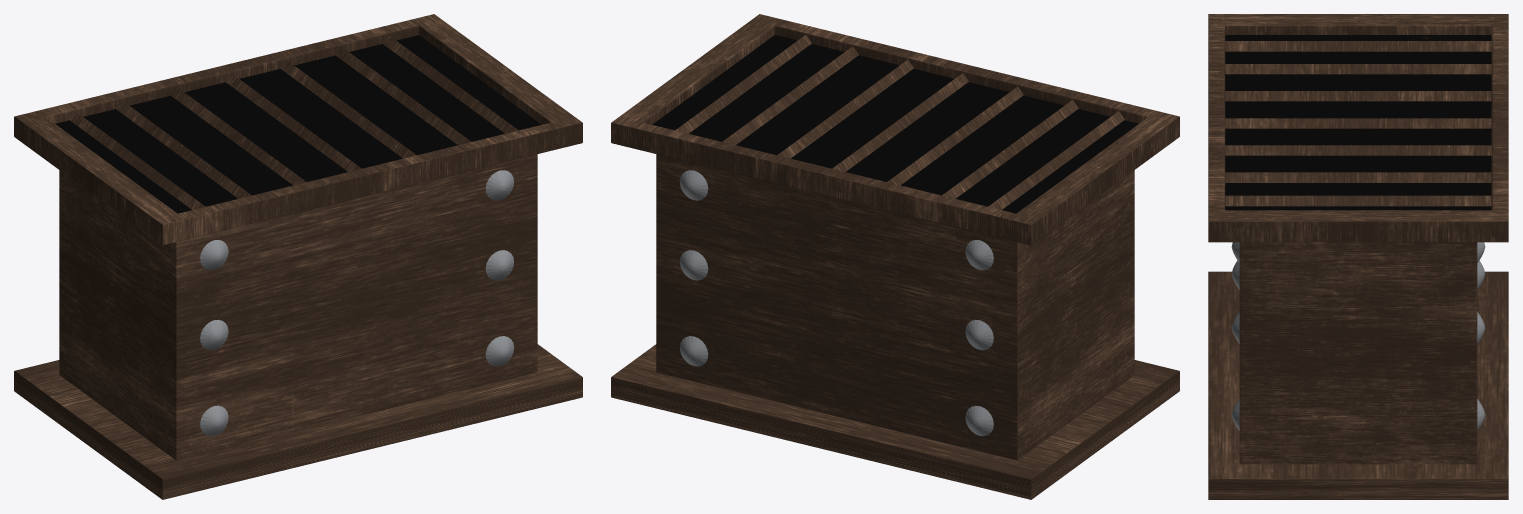
File: SAISENBOX_comp.fbx
3 views of the same model, side by side, from view 1: azimuth 30°, elevation 25°; view 2: azimuth 150°, elevation 25°; view 3: azimuth 270°, elevation 25° (orthographic).
Visible parts, largest first — view 1: Middle_Base, Up_Base, Under_Base, pPlane5, pPlane9, pPlane4, pPlane8, pPlane6, pPlane7, pPlane10, pCylinder1 (×2), pCylinder3 (×2) (+1 smaller); view 2: Middle_Base, Up_Base, Under_Base, pPlane5, pPlane9, pPlane4, pPlane8, pPlane6, pPlane7, pPlane10, pCylinder1 (×2), pCylinder3 (×2) (+1 smaller); view 3: Middle_Base, Up_Base, Under_Base, pPlane9, pPlane4, pPlane5, pPlane6, pPlane7, pPlane8, pPlane10.
Part boxes in pixels (bbox=[...]): Middle_Base: bbox=[59, 154, 537, 460]; Up_Base: bbox=[14, 14, 582, 245]; Under_Base: bbox=[14, 344, 582, 499]; pPlane5: bbox=[170, 86, 306, 185]; pPlane9: bbox=[382, 35, 518, 133]; pPlane4: bbox=[115, 100, 251, 198]; pPlane8: bbox=[335, 46, 471, 145]; pPlane6: bbox=[225, 73, 361, 171]; pPlane7: bbox=[280, 60, 416, 158]; pPlane10: bbox=[69, 111, 205, 209]; pCylinder1 (×2): bbox=[200, 336, 514, 436]; pCylinder3 (×2): bbox=[200, 170, 513, 270]; Middle_Base: bbox=[656, 154, 1134, 460]; Up_Base: bbox=[611, 14, 1179, 245]; Under_Base: bbox=[611, 344, 1179, 499]; pPlane5: bbox=[887, 86, 1023, 185]; pPlane9: bbox=[675, 35, 811, 133]; pPlane4: bbox=[942, 100, 1078, 198]; pPlane8: bbox=[722, 46, 858, 145]; pPlane6: bbox=[832, 73, 968, 171]; pPlane7: bbox=[777, 60, 913, 158]; pPlane10: bbox=[988, 111, 1124, 209]; pCylinder1 (×2): bbox=[679, 336, 993, 436]; pCylinder3 (×2): bbox=[680, 170, 993, 270]; Middle_Base: bbox=[1239, 242, 1477, 464]; Up_Base: bbox=[1208, 14, 1508, 242]; Under_Base: bbox=[1208, 271, 1508, 499]; pPlane9: bbox=[1225, 195, 1491, 206]; pPlane4: bbox=[1225, 64, 1491, 74]; pPlane5: bbox=[1225, 91, 1491, 101]; pPlane6: bbox=[1225, 118, 1491, 128]; pPlane7: bbox=[1225, 145, 1491, 155]; pPlane8: bbox=[1225, 172, 1491, 182]; pPlane10: bbox=[1225, 41, 1491, 51].
Size of the model in its own units: 61.22 by 38.37 by 37.45.
Materials: 1 (1 with a texture image).
